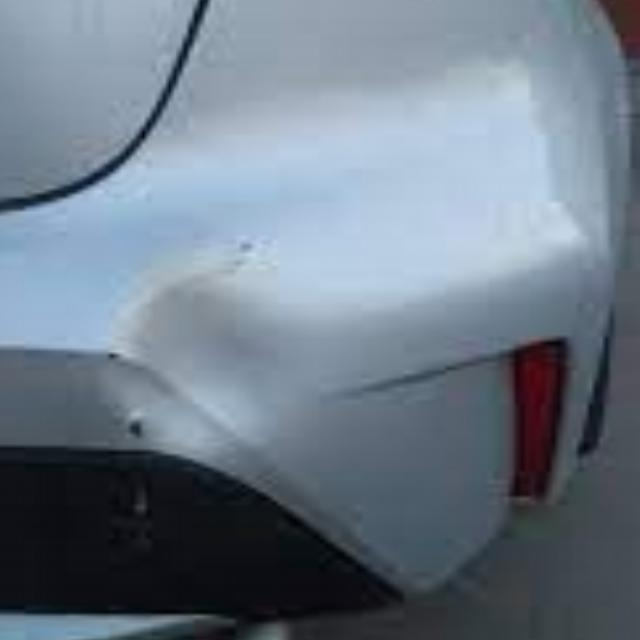dents: (105, 267, 380, 450)
